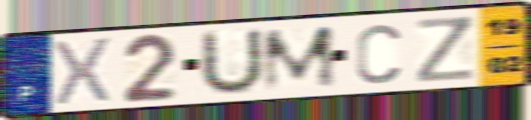2: (121, 31, 180, 105)
C: (353, 21, 404, 86)
M: (260, 22, 341, 94)
U: (196, 26, 267, 99)
X: (51, 35, 114, 108)
Z: (414, 13, 479, 85)
